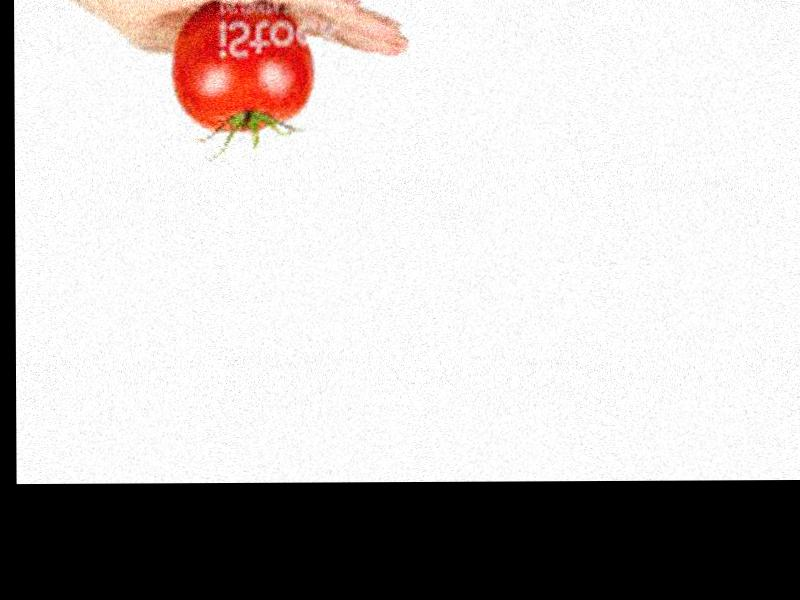Tomato: (171, 3, 311, 135)
